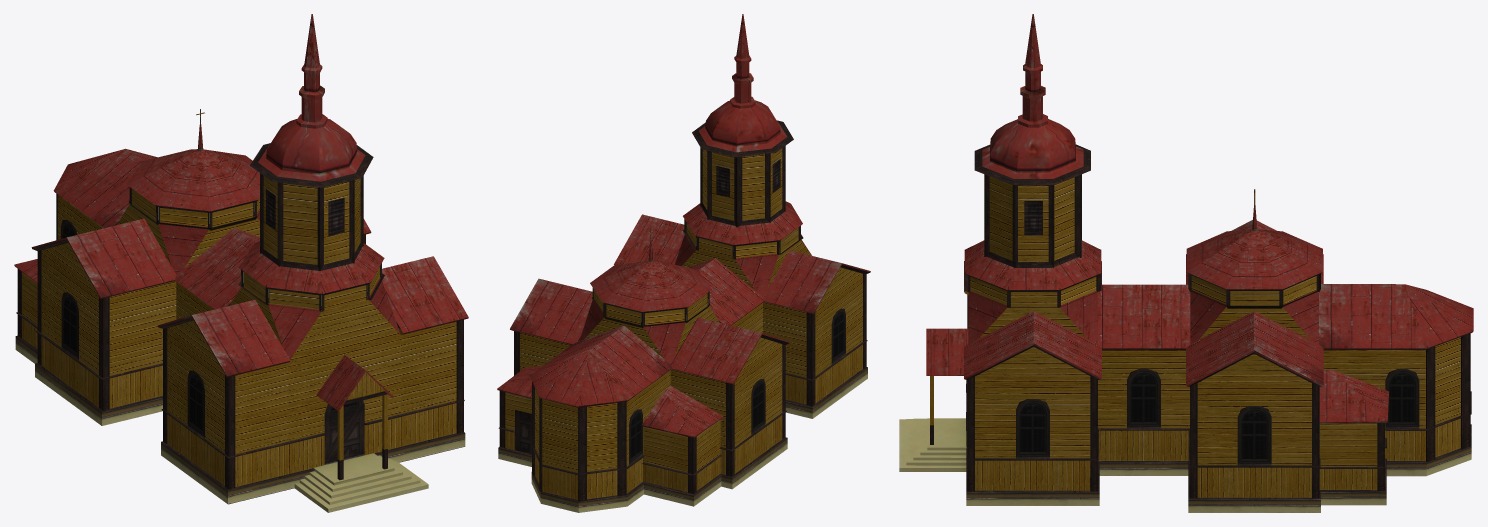
File: igreja.glb
The picture shows the model from 3 angles, left to right: view 1: azimuth 30°, elevation 25°; view 2: azimuth 150°, elevation 25°; view 3: azimuth 270°, elevation 25°; orthographic projection. The views are drawn at different scales.
Visible parts, largest first — view 1: zulin; view 2: zulin; view 3: zulin.
Boxes of the visible parts, left/top/right/bottom form: zulin: left=14, top=14, right=468, bottom=512; zulin: left=497, top=14, right=870, bottom=512; zulin: left=899, top=14, right=1473, bottom=512.
Size of the model in its own units: 9.97 by 15.37 by 18.45.
Materials: 1 (1 with a texture image).
